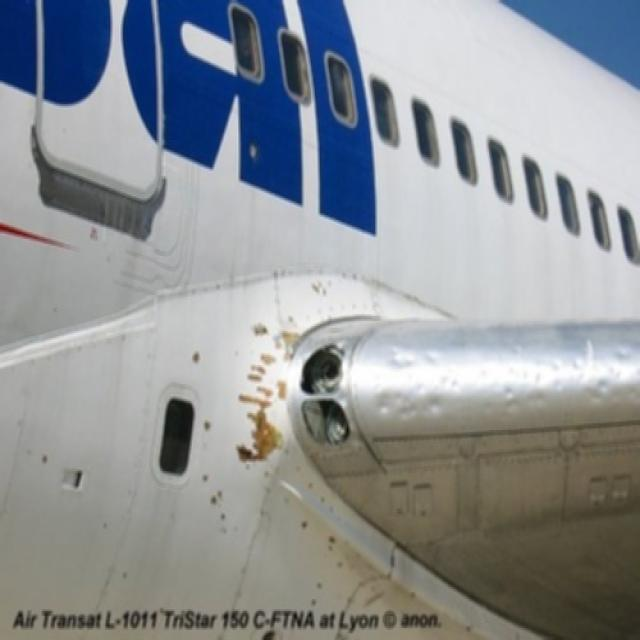dent: (377, 346, 640, 426)
